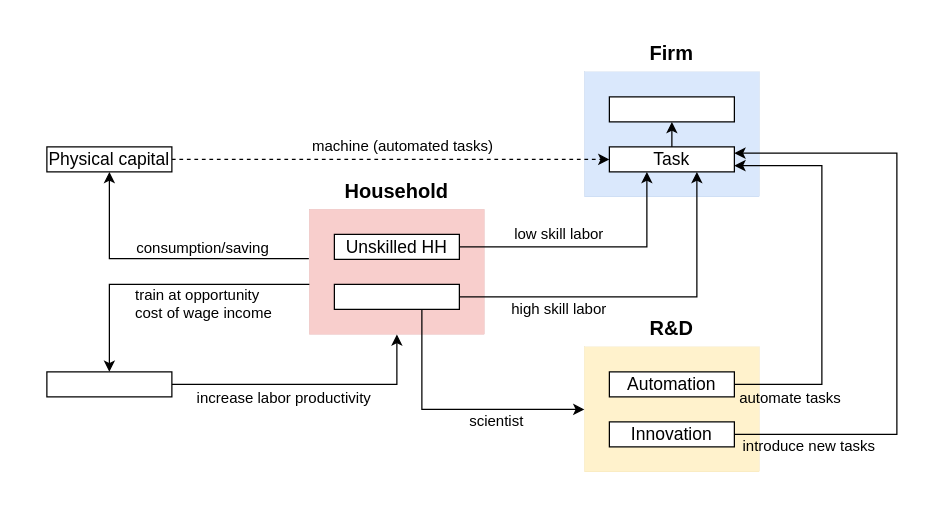
This 943x518 diagram has some shape labels left out. The shapes that lost their labels are listed below. From the top down, each one's box as (x1, y1, x2, y2) in pixels, then its label:
(608, 96, 734, 122): Final good
(333, 283, 459, 309): Skilled HH
(46, 371, 172, 397): Human capital
